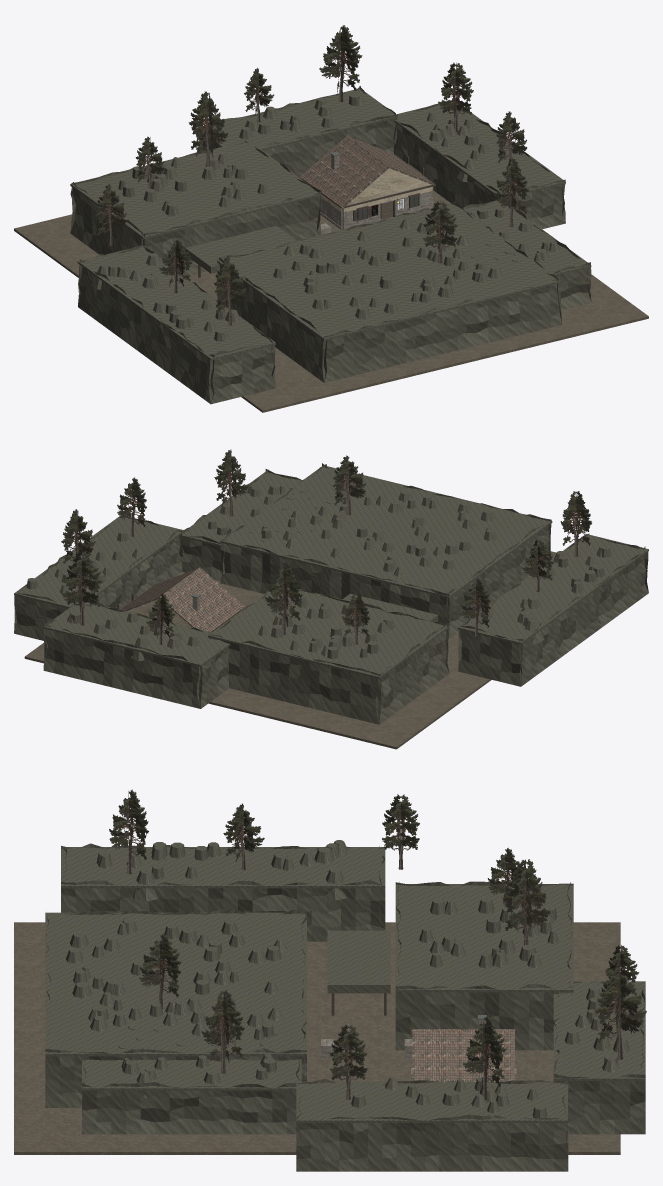
File: mountain.glb
The picture shows the model from 3 angles, top to bottom: view 1: azimuth 30°, elevation 25°; view 2: azimuth 150°, elevation 25°; view 3: azimuth 270°, elevation 25°; orthographic projection. The views are drawn at different scales.
Parts seen in each view (by area): view 1: South cliff, North cliff, West ridge, Ground, Far ridge, North ridge, Roof_Ruins, East cliff, House_Ruins, Tunnel roof, PinePatch_1_2, PinePatch_-1_1 (+9 smaller); view 2: South cliff, North cliff, West ridge, North ridge, Far ridge, Ground, East cliff, Roof_Ruins, PinePatch_1_2, PinePatch_-1_1, PinePatch_1_-1, PinePatch_-2_-2 (+8 smaller); view 3: South cliff, Ground, Far ridge, North cliff, West ridge, East cliff, North ridge, Roof_Ruins, Tunnel roof, PinePatch_1_2, PinePatch_-1_1, PinePatch_2_1 (+8 smaller).
Boxes of the visible parts, x1,y1,x2,y2 form: South cliff: (217,202,561,382); North cliff: (70,140,321,275); West ridge: (77,245,275,404); Ground: (14,190,648,412); Far ridge: (393,102,565,229); North ridge: (198,86,397,178); Roof_Ruins: (300,136,435,208); East cliff: (426,200,591,310); House_Ruins: (301,178,433,229); Tunnel roof: (185,226,296,273); PinePatch_1_2: (319,25,362,102); PinePatch_-1_1: (188,91,227,166); South cliff: (220,463,552,638); North cliff: (208,582,449,724); West ridge: (458,533,648,686); North ridge: (43,600,230,708); Far ridge: (14,514,184,640); Ground: (24,551,556,749); East cliff: (179,469,336,581); Roof_Ruins: (120,567,244,631); PinePatch_1_2: (61,551,102,625); PinePatch_-1_1: (264,560,302,634); PinePatch_1_-1: (214,449,248,516); PinePatch_-2_-2: (560,491,591,556); South cliff: (45,909,306,1107); Ground: (14,922,620,1154); Far ridge: (296,1077,568,1171); North cliff: (395,881,573,1050); West ridge: (61,840,385,941); East cliff: (82,1017,301,1134); North ridge: (553,981,645,1134); Roof_Ruins: (412,1015,515,1081); Tunnel roof: (327,930,390,993); PinePatch_1_2: (594,965,646,1059); PinePatch_-1_1: (502,859,550,945); PinePatch_2_1: (462,1015,506,1099).
Size of the model in its own units: 61.15 by 16.81 by 60.72.
Materials: 17 (11 with a texture image).
